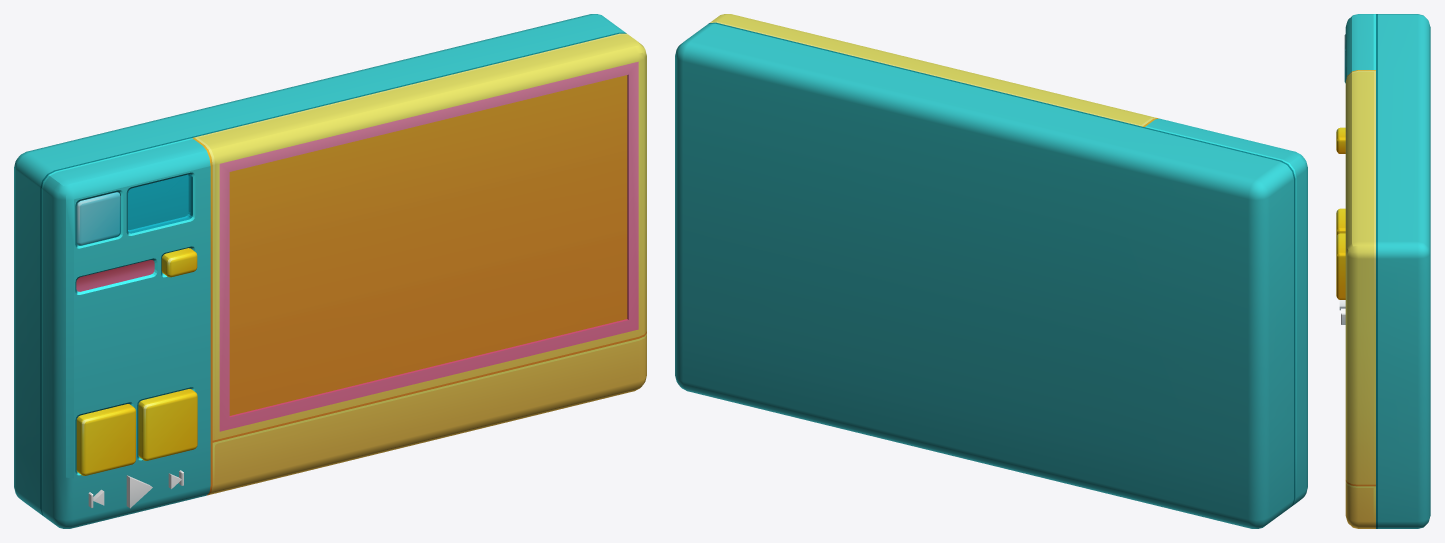
The model's file is CassettePlayer_Fixed(1).fbx.
3 views of the same model, side by side, from view 1: azimuth 30°, elevation 25°; view 2: azimuth 150°, elevation 25°; view 3: azimuth 270°, elevation 25° (orthographic). The views are drawn at different scales.
Parts seen in each view (by area): view 1: Walkman_Lid, Walkman_Base, Button_Isolate, Button_Instrument, Button_Settings, Button_Eject; view 2: Walkman_Base, Walkman_Lid; view 3: Walkman_Base, Walkman_Lid, Button_Isolate, Button_Eject, Button_Instrument.
Boxes of the visible parts, x1=… form: Walkman_Lid: x1=194, y1=33, x2=646, y2=440; Walkman_Base: x1=14, y1=14, x2=646, y2=528; Button_Isolate: x1=138, y1=389, x2=197, y2=460; Button_Instrument: x1=76, y1=404, x2=135, y2=475; Button_Settings: x1=76, y1=192, x2=120, y2=245; Button_Eject: x1=161, y1=248, x2=197, y2=277; Walkman_Base: x1=675, y1=22, x2=1307, y2=528; Walkman_Lid: x1=710, y1=14, x2=1156, y2=126; Walkman_Base: x1=1345, y1=14, x2=1430, y2=528; Walkman_Lid: x1=1345, y1=70, x2=1375, y2=484; Button_Isolate: x1=1336, y1=233, x2=1345, y2=299; Button_Eject: x1=1336, y1=127, x2=1345, y2=153; Button_Instrument: x1=1336, y1=208, x2=1345, y2=236.
Size of the model in its own units: 14.59 by 8.21 by 2.44.
